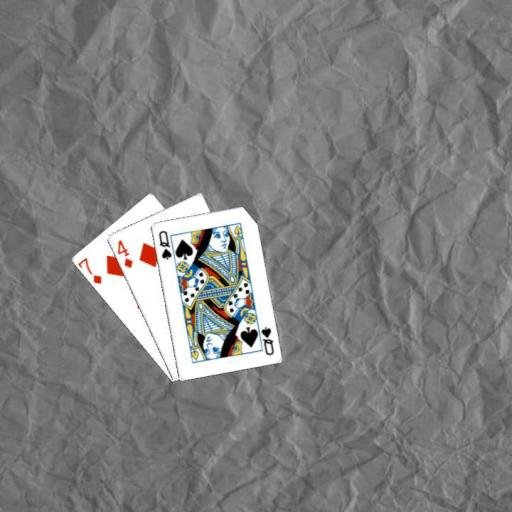4D: (114, 237, 134, 269)
7D: (75, 254, 103, 286)
QS: (155, 227, 173, 261), (258, 324, 276, 356)
